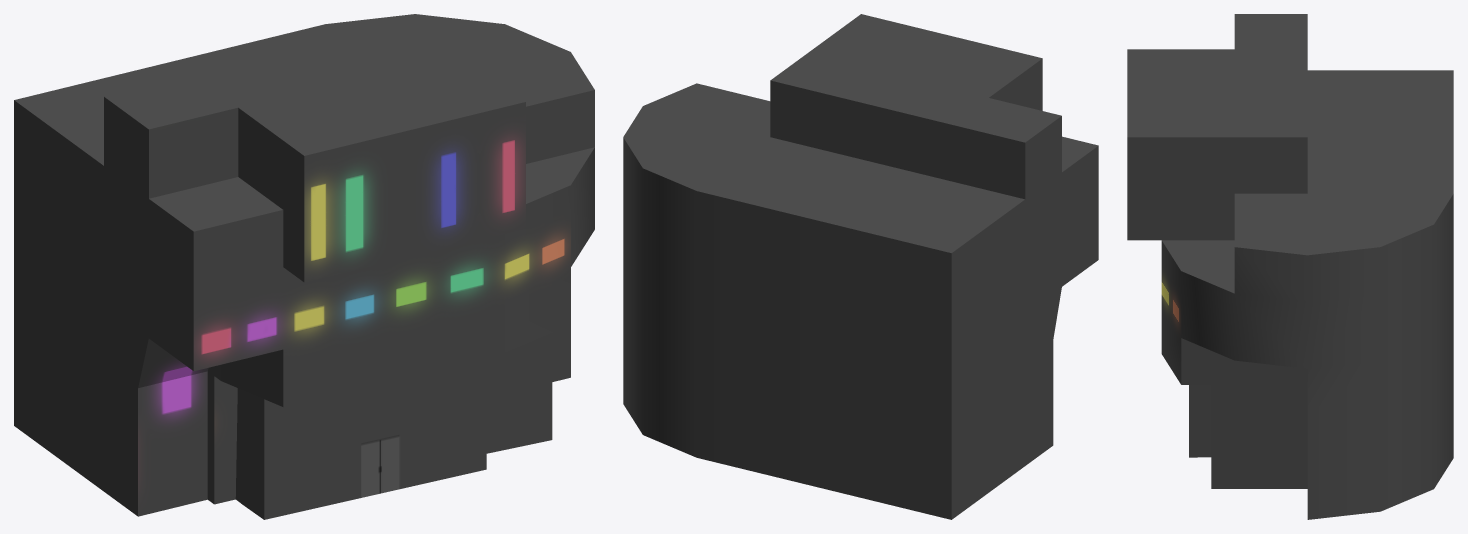
File: building3.fbx
3 renders of one model, left to right at view 1: azimuth 30°, elevation 25°; view 2: azimuth 150°, elevation 25°; view 3: azimuth 270°, elevation 25°, orthographic. The views are drawn at different scales.
Parts seen in each view (by area): view 1: building3; view 2: building3; view 3: building3.
Boxes of the visible parts, bbox=[...] form: building3: bbox=[14, 14, 594, 519]; building3: bbox=[623, 14, 1098, 519]; building3: bbox=[1127, 14, 1453, 519].
Size of the model in its own units: 6 by 4.85 by 4.47.
